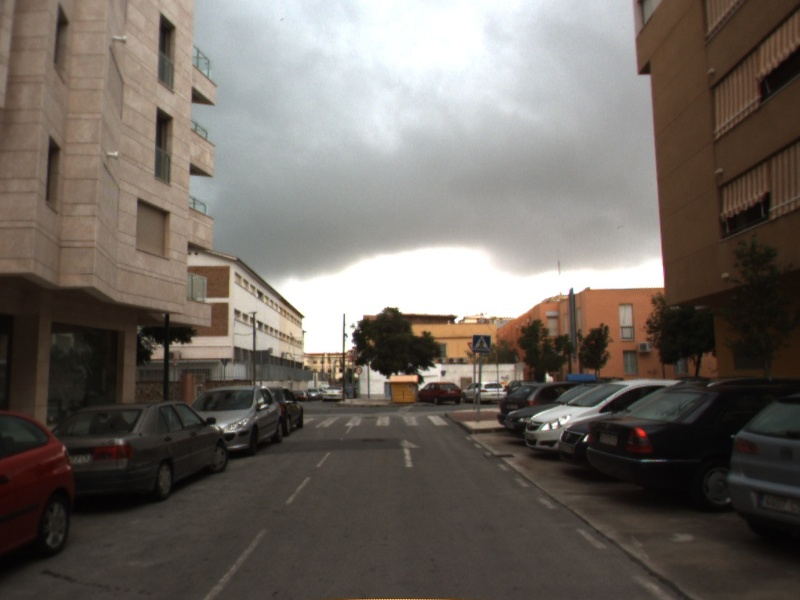STRAIGHT: (396, 436, 424, 469)
